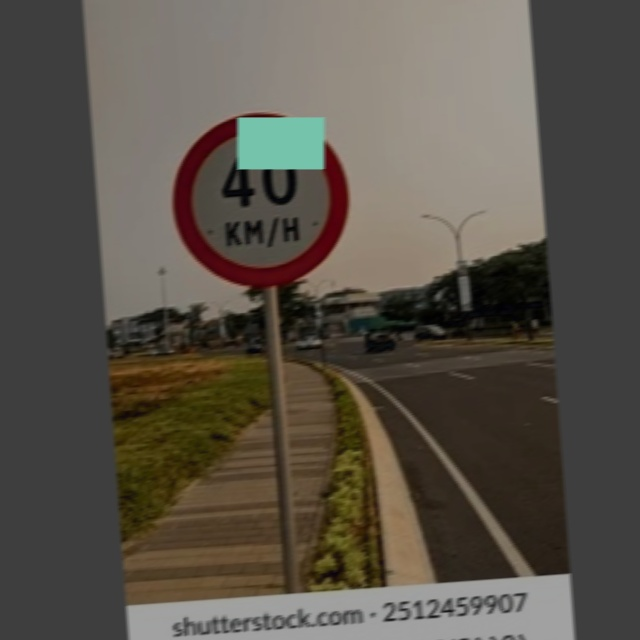Speed_Limit_40: (171, 105, 356, 290)
